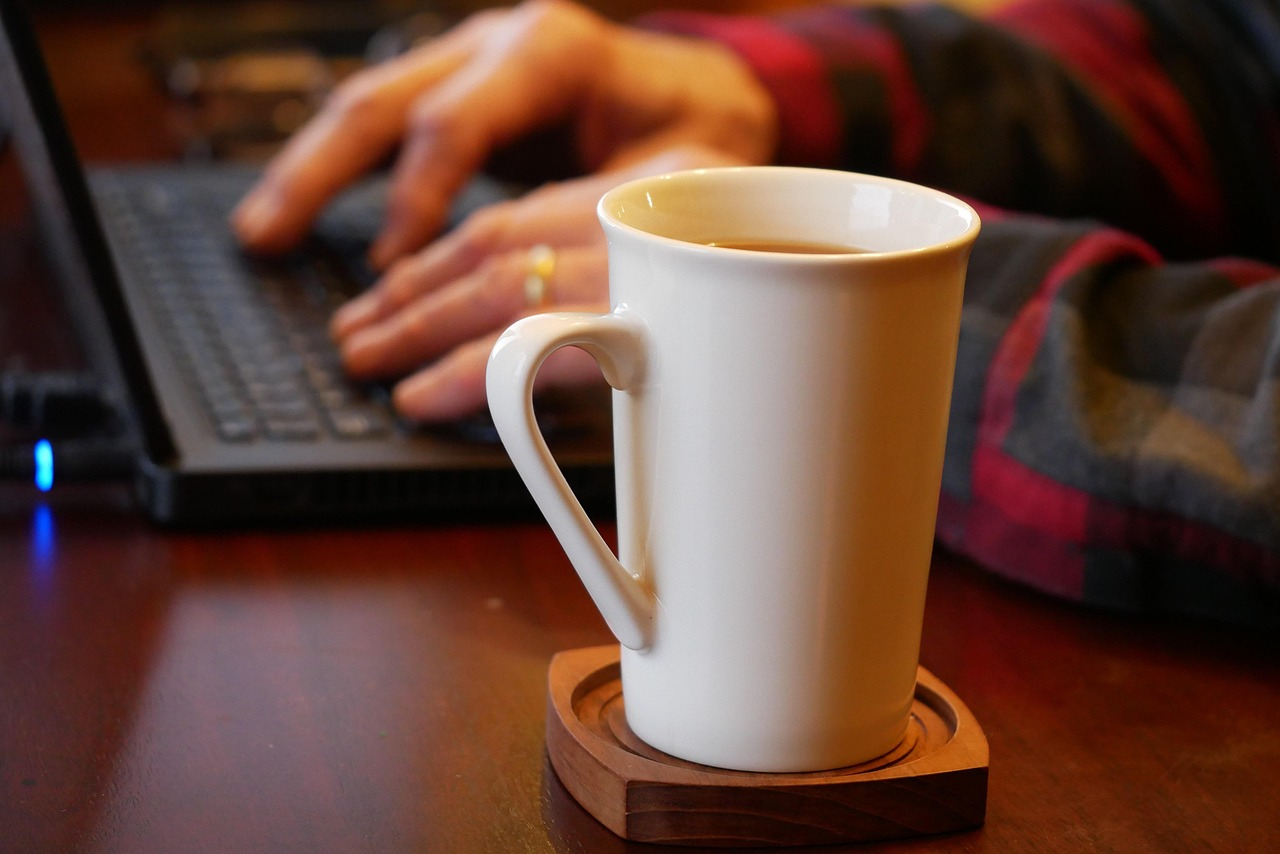mug: (476, 152, 1036, 810)
